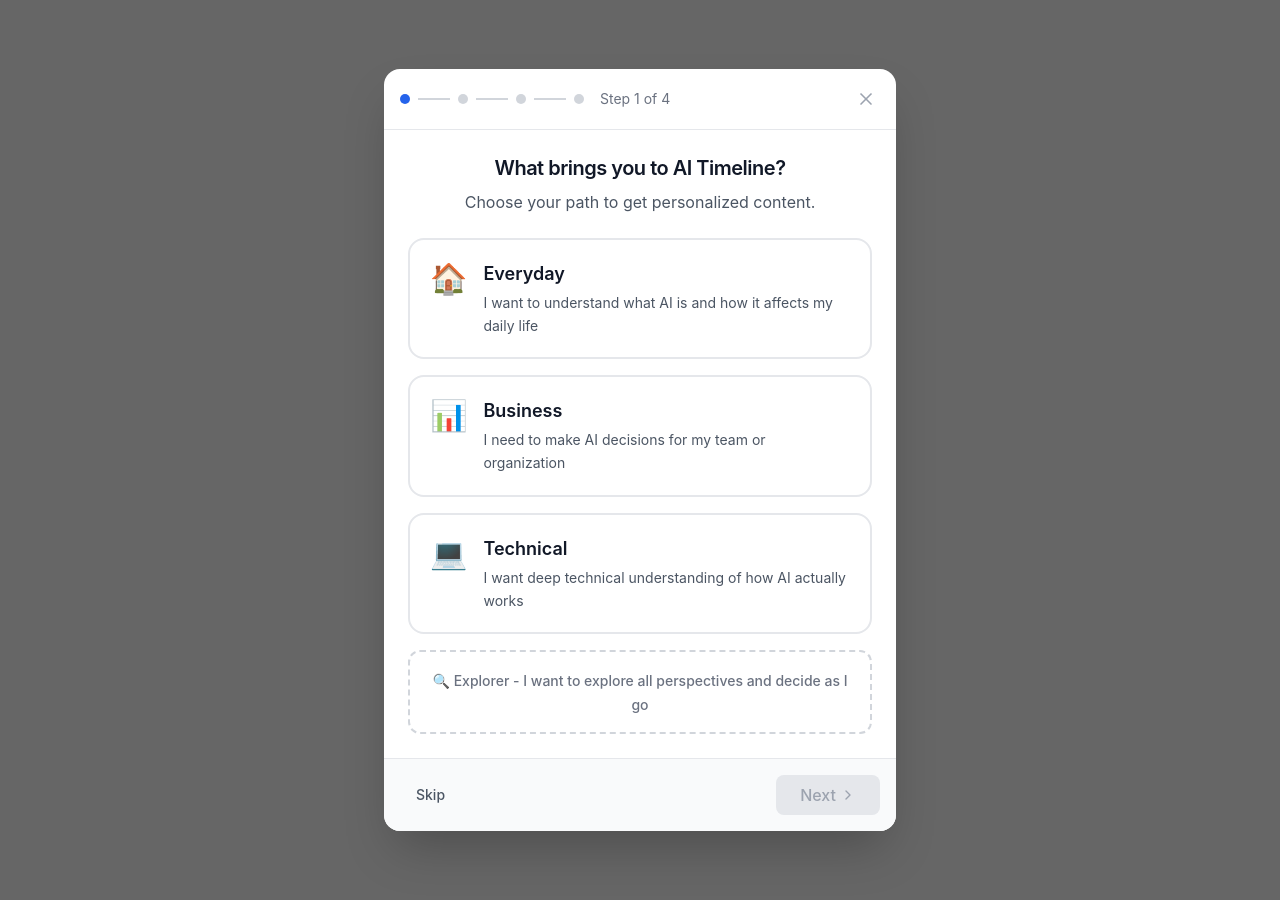
OnboardingModal › step 1: audience selection › should disable next button until audience is selected
Expected: the button with test id "next-button" is disabled, [776, 775, 880, 815]
What coordinates should you click on to do the following:
click the radio button with test id "audience-everyday"
I would click on:
 (640, 299)
Its box is [408, 238, 872, 359].
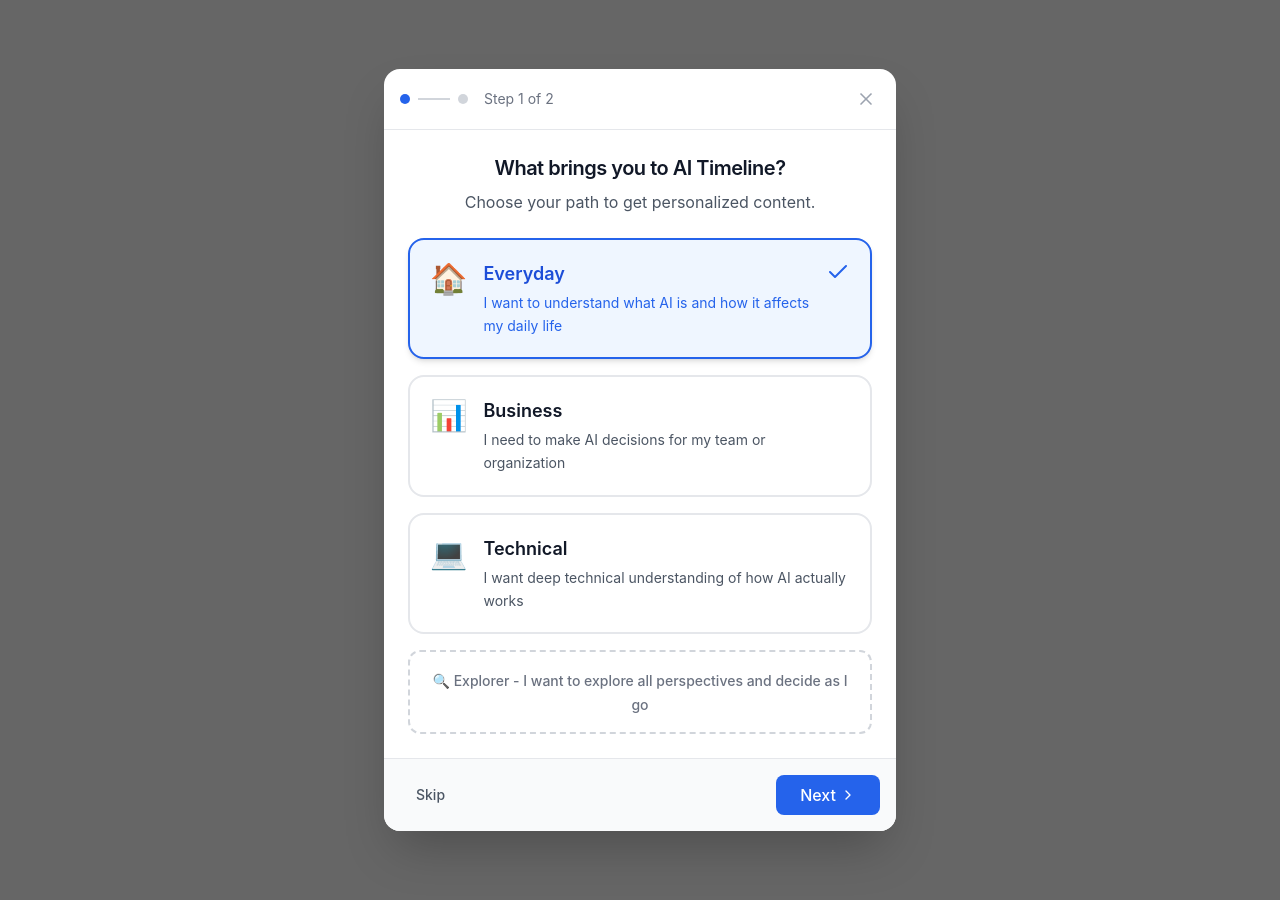
Expected: the button with test id "next-button" is enabled, [776, 775, 880, 815]
